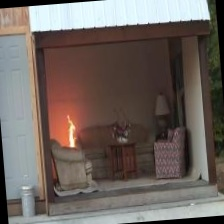fire: (54, 108, 83, 152)
